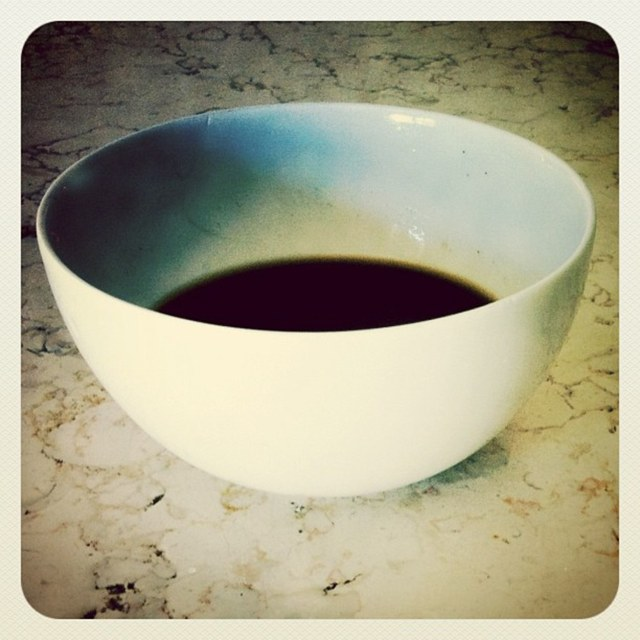bowl: (36, 102, 596, 498)
